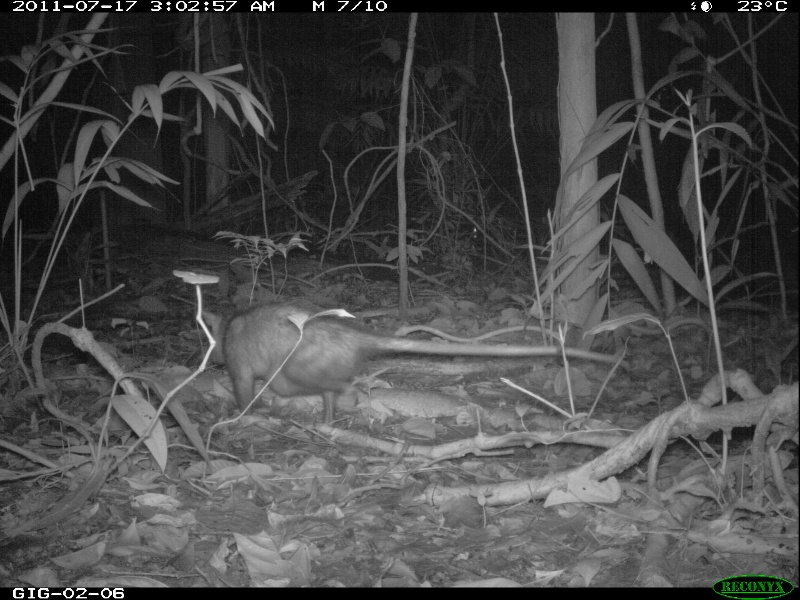opossum: (197, 305, 633, 431)
